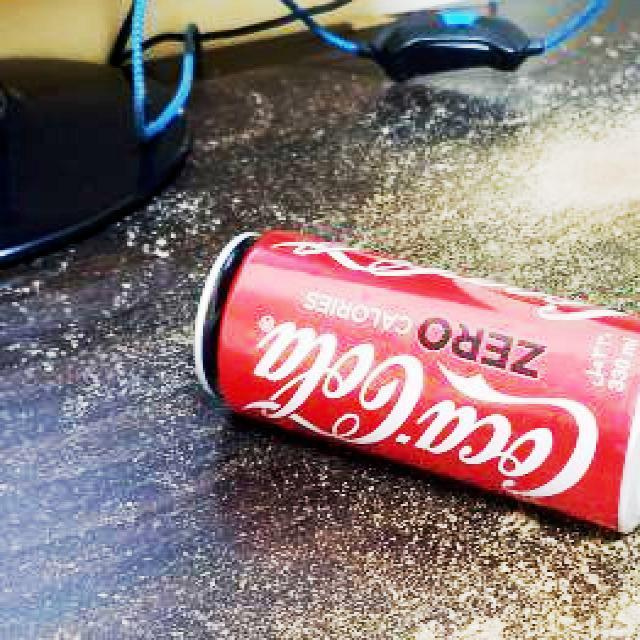Lata: (196, 230, 640, 531)
